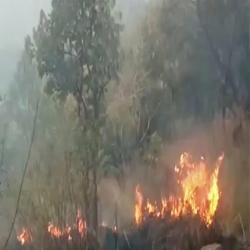fire: (179, 172, 221, 210)
